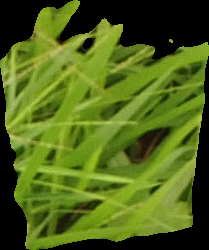grass: (1, 1, 208, 248)
